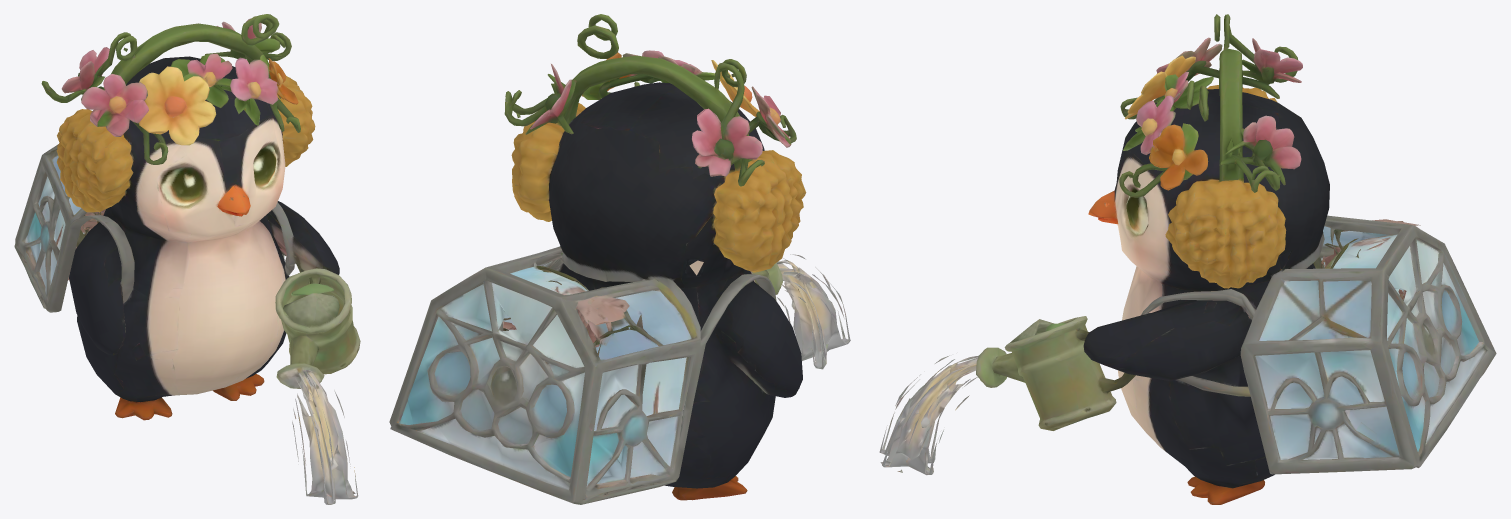
Rendered from garden_penguin.glb.
The picture shows the model from 3 angles, left to right: view 1: azimuth 30°, elevation 25°; view 2: azimuth 150°, elevation 25°; view 3: azimuth 270°, elevation 25°; orthographic projection. The views are drawn at different scales.
Visible parts, largest first — view 1: world; view 2: world; view 3: world.
Part boxes in pixels (left/top/right/bottom): world: left=14, top=14, right=360, bottom=504; world: left=389, top=14, right=850, bottom=504; world: left=879, top=14, right=1496, bottom=504.
Bounding box in the file's own units: 0.5502 × 0.7492 × 0.996.
Materials: 1 (1 with a texture image).
